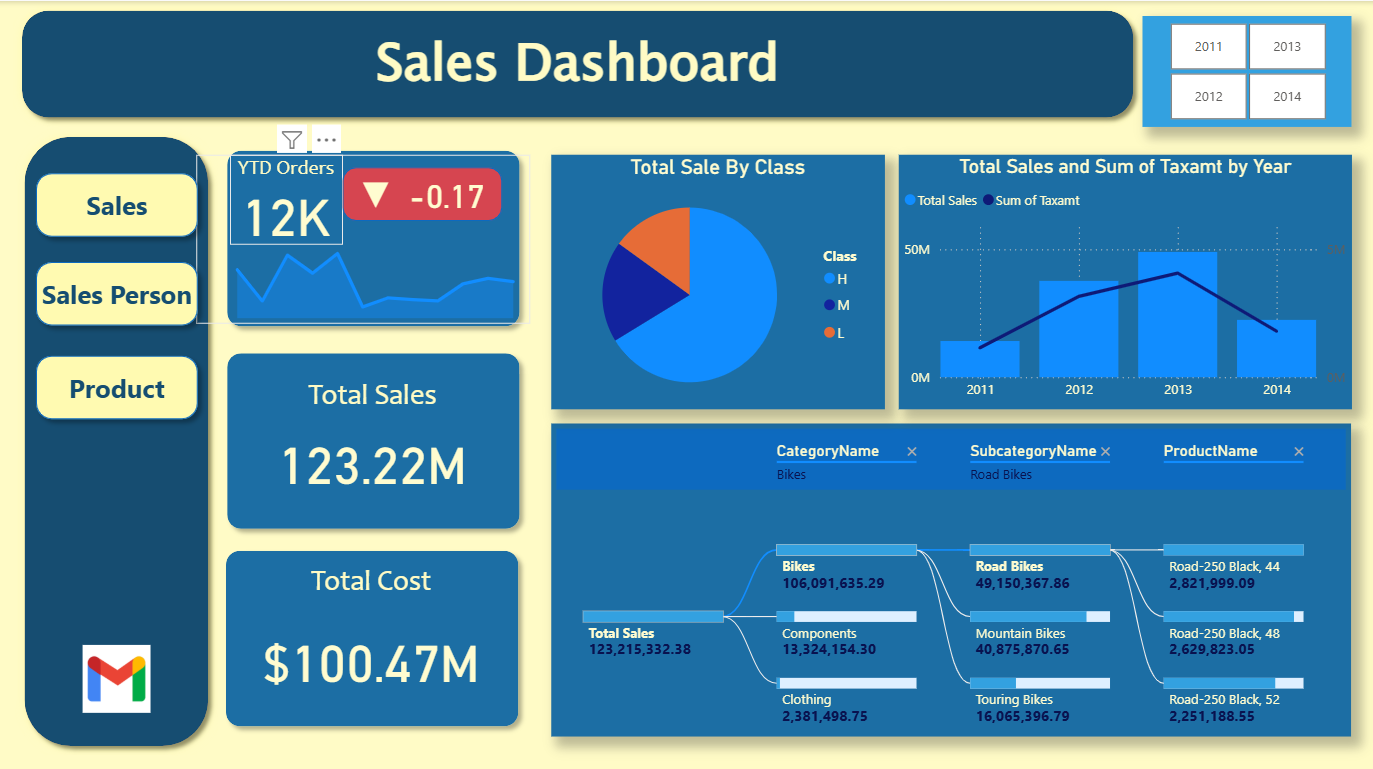

The page's visual inventory and layout, read from the dashboard file:
{"tool":"powerbi","page":{"name":"Sales","canvas":[1280,720],"ordinal":0},"visuals":[{"type":"shape","box":[202.9,130,290,181.4],"z":0},{"type":"shape","box":[202.9,318.6,290,181.4],"z":0,"group":"g2"},{"type":"shape","box":[11.4,0,1051.4,117.1],"z":1000},{"type":"shape","box":[14.3,117.1,188.6,584.3],"z":2000},{"type":"slicer","fields":{"Values":["Date.Year"]},"box":[1062.9,14.3,194.3,102.9],"z":3000},{"type":"card","title":"YTD Orders","fields":{"Values":["vw_Fact_OrderDetails.YTD orders"]},"box":[214.3,142.9,104.3,84.3],"z":3000,"group":"g3"},{"type":"group","id":"g1","title":"Group 1","box":[201.4,502.9,290,181.4],"z":4000},{"type":"card","fields":{"Values":["vw_Fact_OrderDetails.Yoy orders"]},"box":[385.8,160,81.4,44.3],"z":5000,"group":"g3"},{"type":"group","id":"g2","title":"Group 2","box":[202.9,318.6,290,181.4],"z":5000},{"type":"group","id":"g3","title":"Group 3","box":[182.9,142.9,310,157.1],"z":6000},{"type":"shape","box":[318.6,154.3,148.6,50],"z":6000,"group":"g3"},{"type":"card","fields":{"Values":["vw_Fact_OrderDetails.Yoy orders"]},"box":[364.3,154.3,102.9,50],"z":7000,"group":"g3"},{"type":"decompositionTreeVisual","fields":{"Analyze":["vw_Fact_OrderDetails.Total Sales"],"ExplainBy":["vw_DIM_Product.CategoryName","vw_DIM_Product.SubcategoryName","vw_DIM_Product.ProductName"]},"box":[512.9,392.9,744.3,291.4],"z":7000},{"type":"pieChart","title":"Total Sale By Class","fields":{"Y":["vw_Fact_OrderDetails.Total Sales"],"Category":["vw_DIM_Product.Class"]},"box":[512.9,142.9,310,237.1],"z":8000},{"type":"areaChart","fields":{"Category":["Date.Month"],"Y":["vw_Fact_OrderDetails.num of orders"]},"box":[182.9,204.3,310,95.7],"z":8000,"group":"g3"},{"type":"lineClusteredColumnComboChart","fields":{"Category":["Date.Year","Date.Month Name"],"Y":["vw_Fact_OrderDetails.Total Sales"],"Y2":["Sum(vw_Fact_OrderDetails.Taxamt)"]},"box":[835.7,142.9,421.4,237.1],"z":9000},{"type":"card","fields":{"Values":["vw_Fact_OrderDetails.Trend Icon"]},"box":[324.3,151.5,50,55.7],"z":9000,"group":"g3"},{"type":"shape","box":[24.3,151.4,168.6,77.1],"z":10000},{"type":"shape","box":[24.3,234.3,168.6,77.1],"z":11000},{"type":"card","title":"Total Sales","fields":{"Values":["vw_Fact_OrderDetails.Total Sales"]},"box":[231.5,348.6,230,122.9],"z":11000,"group":"g2"},{"type":"shape","box":[24.3,321.4,168.6,77.1],"z":12000},{"type":"shape","box":[201.4,502.9,290,181.4],"z":12000,"group":"g1"},{"type":"card","title":"Total Cost","fields":{"Values":["vw_Fact_OrderDetails.Total Cost"]},"box":[221.4,522.9,248.6,144.3],"z":13000,"group":"g1"},{"type":"image","box":[61.4,594.3,94.3,72.9],"z":13000}]}

Visuals, with their boxes in screenshot pixels (x1, y1, x2, y2), scaled from the page's 1280x720 canvas onto the 1373x769 screenshot:
shape: 218:139:529:333
shape: 218:340:529:534
shape: 12:0:1140:125
shape: 15:125:218:749
slicer - Date.Year: 1140:15:1349:125
"YTD Orders" card: 230:153:342:243
"Group 1" group: 216:537:527:731
card - vw_Fact_OrderDetails.Yoy orders: 414:171:501:218
"Group 2" group: 218:340:529:534
"Group 3" group: 196:153:529:320
shape: 342:165:501:218
card - vw_Fact_OrderDetails.Yoy orders: 391:165:501:218
decompositionTreeVisual - vw_Fact_OrderDetails.Total Sales x vw_DIM_Product.CategoryName: 550:420:1349:731
"Total Sale By Class" pieChart: 550:153:883:406
areaChart - Date.Month x vw_Fact_OrderDetails.num of orders: 196:218:529:320
lineClusteredColumnComboChart - Date.Year x Date.Month Name: 896:153:1348:406
card - vw_Fact_OrderDetails.Trend Icon: 348:162:401:221
shape: 26:162:207:244
shape: 26:250:207:333
"Total Sales" card: 248:372:495:504
shape: 26:343:207:426
shape: 216:537:527:731
"Total Cost" card: 237:558:504:713
image: 66:635:167:713
